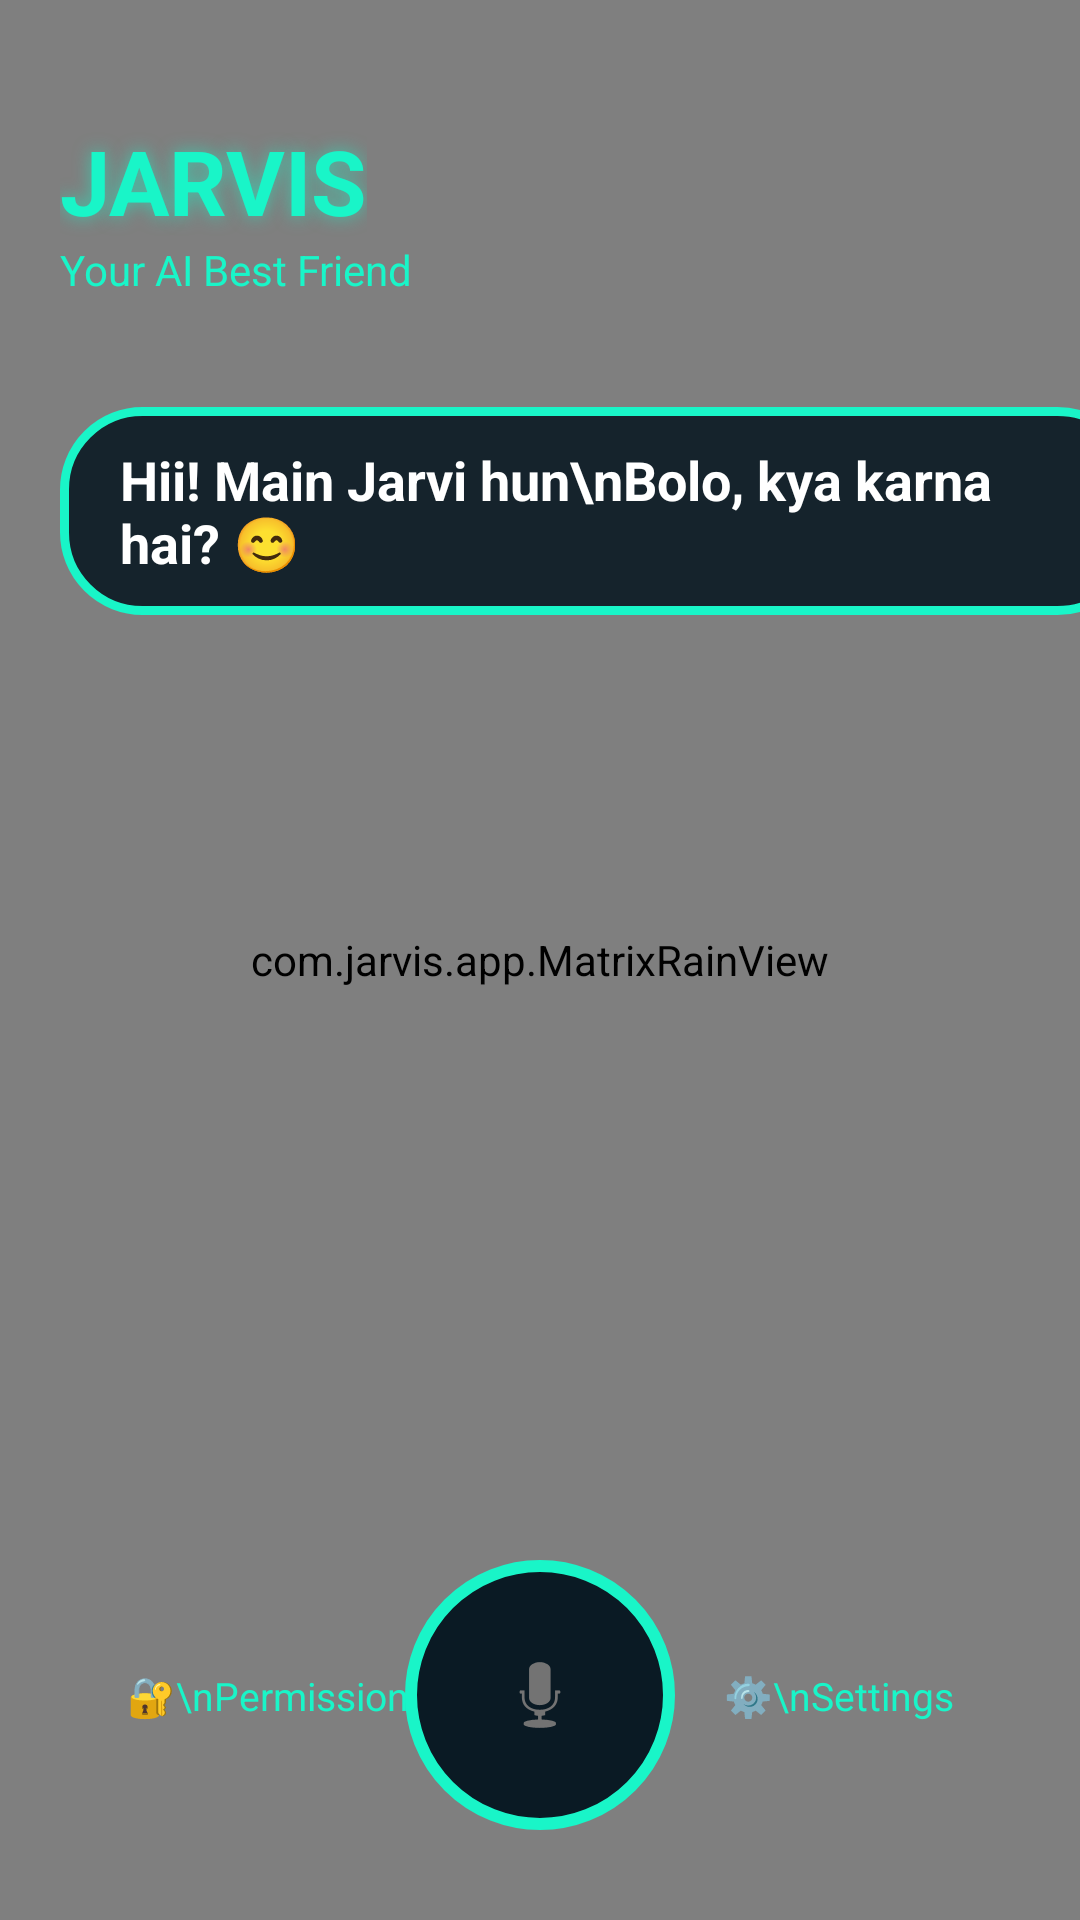

Screen size 1080×1920. Icon name, then its box in pixels as (x1, y1, x2, y2):
Mic: (405, 1560, 675, 1830)
